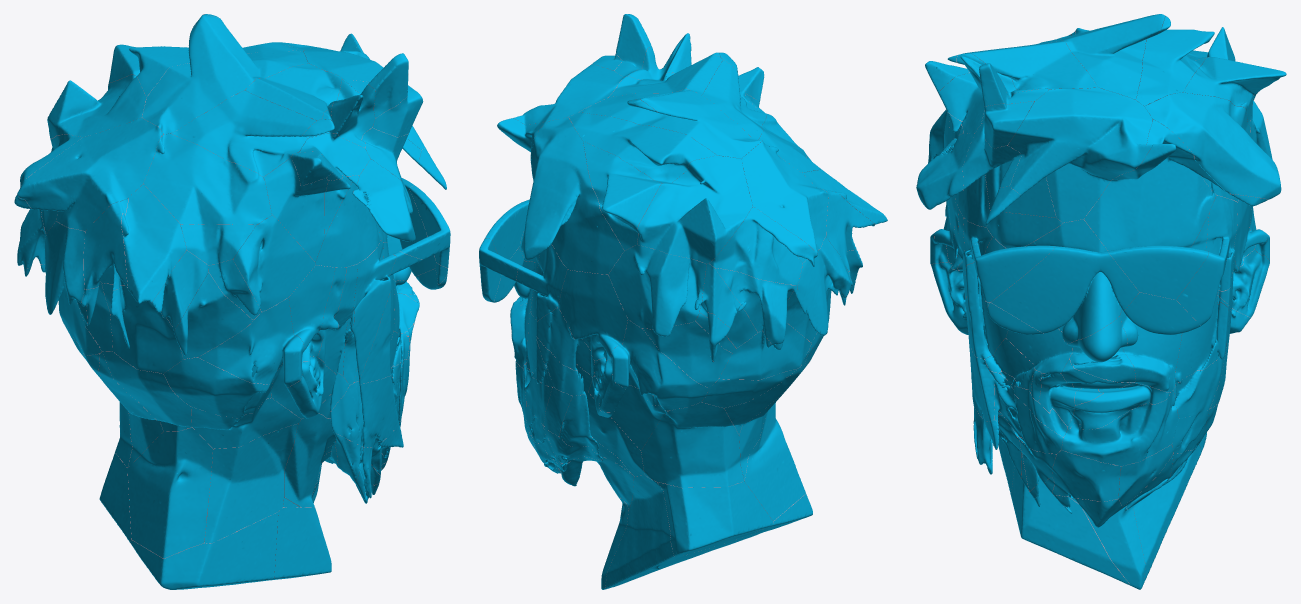
The model's file is carlos-3-ultra-optimized.glb.
The picture shows the model from 3 angles, left to right: view 1: azimuth 30°, elevation 25°; view 2: azimuth 150°, elevation 25°; view 3: azimuth 270°, elevation 25°; orthographic projection. The views are drawn at different scales.
Visible parts, largest first — view 1: result_cell.054, result_cell.039, result_cell.064, result_cell.015, result_cell.071, result_cell.016, result_cell.003, result_cell.070, result_cell.033, result_cell.014, result_cell.046, result_cell.075 (+42 smaller); view 2: result_cell.011, result_cell.073, result_cell.068, result_cell.053, result_cell.087, result_cell.064, result_cell.054, result_cell.083, result_cell.093, result_cell.099, result_cell.066, result_cell.041 (+39 smaller); view 3: result_cell.018, result_cell.052, result_cell.022, result_cell.011, result_cell.002, result_cell.013, result_cell.064, result_cell.095, result_cell.083, result_cell.003, result_cell.130, result_cell.031 (+45 smaller).
Part boxes in pixels (box(x1,y1,x2,y2)): result_cell.054: box(17, 118, 163, 231); result_cell.039: box(127, 427, 213, 558); result_cell.064: box(142, 15, 307, 134); result_cell.015: box(143, 133, 271, 224); result_cell.071: box(204, 423, 297, 543); result_cell.016: box(171, 90, 316, 176); result_cell.003: box(315, 159, 415, 267); result_cell.070: box(130, 512, 278, 589); result_cell.033: box(121, 184, 186, 303); result_cell.014: box(198, 297, 304, 387); result_cell.046: box(233, 215, 315, 311); result_cell.075: box(101, 283, 183, 373); result_cell.011: box(521, 117, 623, 274); result_cell.073: box(637, 155, 752, 263); result_cell.068: box(641, 402, 744, 487); result_cell.053: box(608, 244, 706, 336); result_cell.087: box(657, 481, 773, 556); result_cell.064: box(579, 88, 762, 158); result_cell.054: box(741, 141, 828, 262); result_cell.083: box(568, 112, 716, 182); result_cell.093: box(605, 475, 735, 588); result_cell.099: box(709, 206, 817, 285); result_cell.066: box(557, 253, 627, 360); result_cell.041: box(583, 141, 662, 250); result_cell.018: box(1008, 87, 1152, 222); result_cell.052: box(1084, 119, 1224, 251); result_cell.022: box(991, 216, 1139, 343); result_cell.011: box(1145, 92, 1281, 201); result_cell.002: box(1011, 466, 1131, 586); result_cell.013: box(1061, 390, 1178, 466); result_cell.064: box(1060, 14, 1164, 99); result_cell.095: box(966, 40, 1098, 90); result_cell.083: box(1136, 29, 1214, 168); result_cell.003: box(916, 133, 990, 227); result_cell.130: box(1108, 245, 1208, 299); result_cell.031: box(962, 122, 1056, 217).
Size of the model in its own units: 5.67 by 8 by 4.88.
